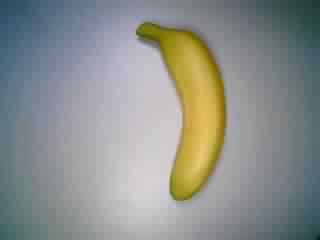banana: (132, 18, 230, 204)
